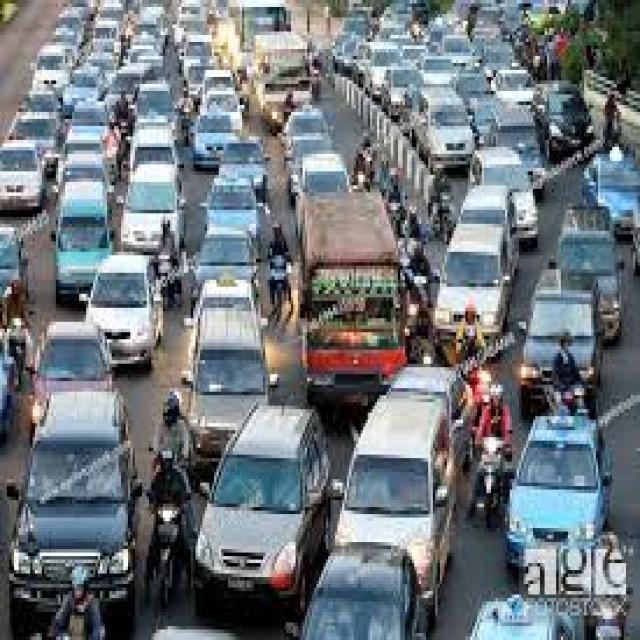bus: (300, 192, 405, 402)
car: (9, 395, 137, 623), (335, 371, 451, 619), (195, 409, 326, 616), (507, 416, 603, 567), (189, 308, 265, 472), (305, 553, 414, 640), (524, 290, 596, 416), (86, 255, 161, 367), (121, 129, 182, 262), (435, 224, 507, 336), (559, 210, 619, 343), (35, 325, 109, 427), (470, 147, 535, 248), (56, 182, 109, 301), (582, 147, 638, 238), (461, 185, 514, 276), (535, 80, 591, 161), (417, 91, 472, 171), (289, 136, 347, 203), (195, 231, 254, 287), (0, 140, 42, 210), (219, 140, 265, 203), (193, 112, 233, 168), (0, 227, 21, 325), (58, 154, 105, 189)
motorcycle: (149, 504, 193, 609), (470, 437, 507, 528)
person: (49, 570, 105, 640), (154, 388, 189, 465), (268, 227, 289, 304), (149, 469, 186, 507), (554, 332, 577, 392)
